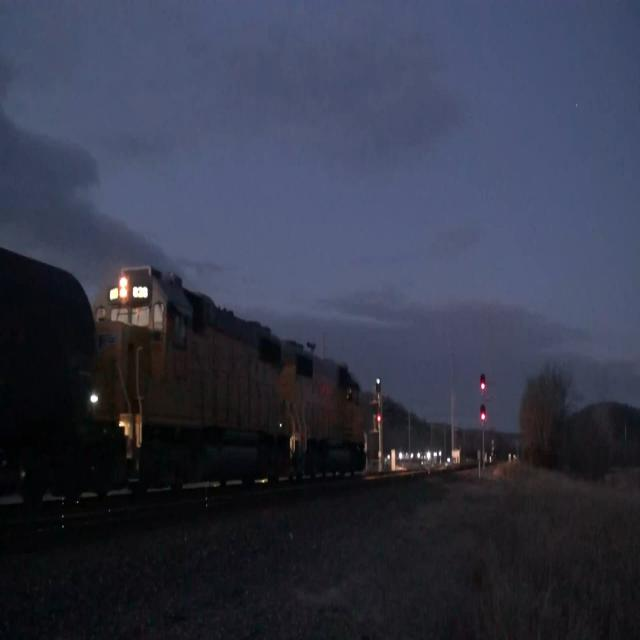locomotive: (97, 254, 288, 502), (278, 322, 371, 492)
